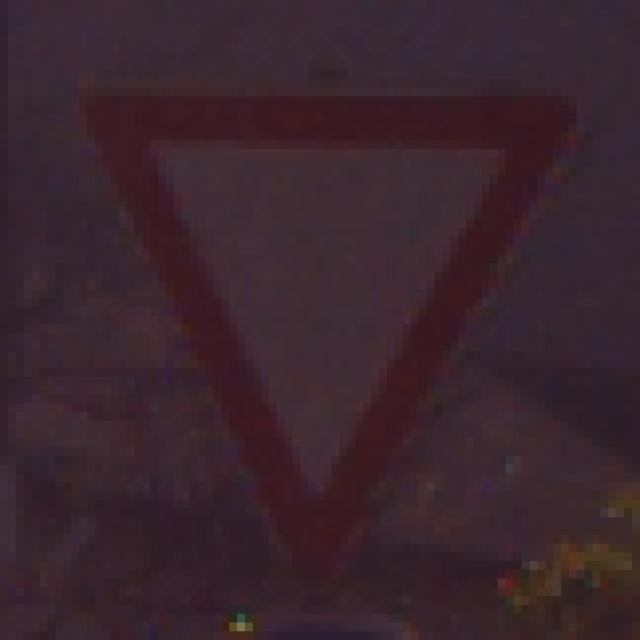Give Way: (64, 54, 586, 580)
